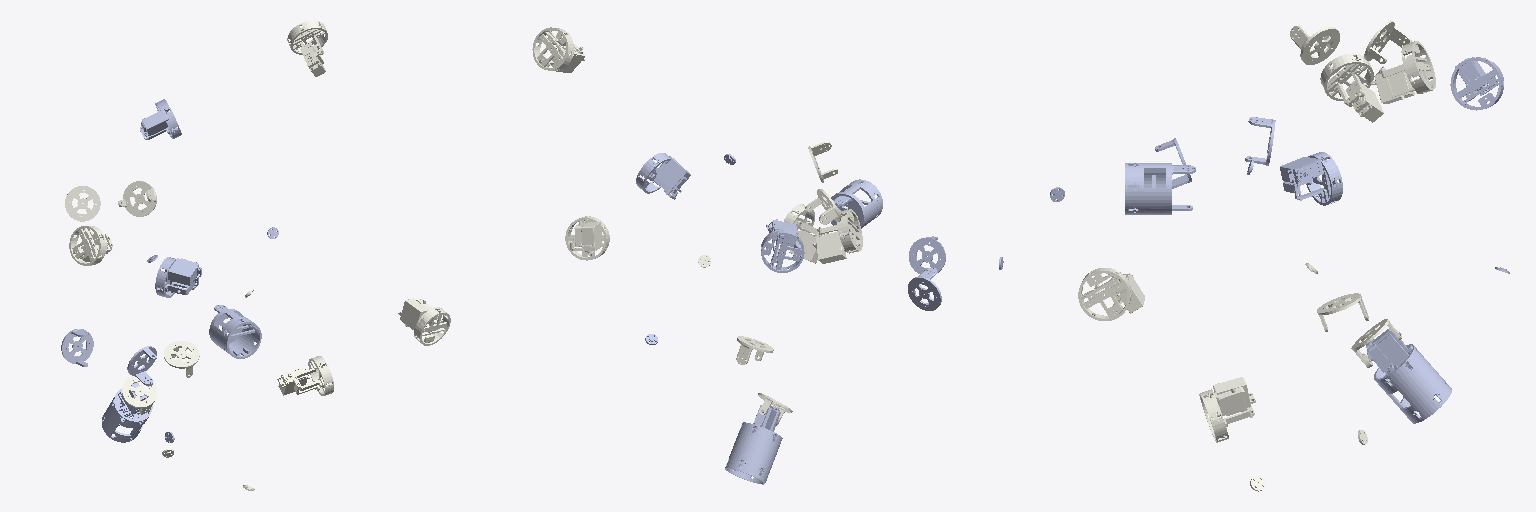
robot.urdf — Arboc.SLDASM:
<robot
  name="Arboc.SLDASM">
  <link
    name="head_link">
    <inertial>
      <origin
        xyz="0.21209 0.073412 0.088981"
        rpy="0 0 0" />
      <mass
        value="0.049805" />
      <inertia
        ixx="1.1571E-05"
        ixy="1.0971E-10"
        ixz="-3.5548E-10"
        iyy="1.0623E-05"
        iyz="2.7339E-06"
        izz="9.4814E-07" />
    </inertial>
    <visual>
      <origin
        xyz="0 0 0"
        rpy="0 0 0" />
      <geometry>
        <mesh
          filename="package://Arboc.SLDASM/meshes/head_link.STL" />
      </geometry>
      <material
        name="">
        <color
          rgba="0.79216 0.81961 0.93333 1" />
      </material>
    </visual>
    <collision>
      <origin
        xyz="0 0 0"
        rpy="0 0 0" />
      <geometry>
        <mesh
          filename="package://Arboc.SLDASM/meshes/head_link.STL" />
      </geometry>
    </collision>
  </link>
  <link
    name="link_0">
    <inertial>
      <origin
        xyz="0.00073093 0.031103 0.022445"
        rpy="0 0 0" />
      <mass
        value="0.066625" />
      <inertia
        ixx="1.5554E-05"
        ixy="-1.5964E-08"
        ixz="-1.5083E-06"
        iyy="1.6007E-05"
        iyz="-8.9711E-07"
        izz="6.7554E-07" />
    </inertial>
    <visual>
      <origin
        xyz="0 0 0"
        rpy="0 0 0" />
      <geometry>
        <mesh
          filename="package://Arboc.SLDASM/meshes/link_0.STL" />
      </geometry>
      <material
        name="">
        <color
          rgba="0.79216 0.81961 0.93333 1" />
      </material>
    </visual>
    <collision>
      <origin
        xyz="0 0 0"
        rpy="0 0 0" />
      <geometry>
        <mesh
          filename="package://Arboc.SLDASM/meshes/link_0.STL" />
      </geometry>
    </collision>
  </link>
  <joint
    name="joint_0"
    type="revolute">
    <origin
      xyz="0.21209 -0.046017 0.041737"
      rpy="1.5315 -1.1726E-14 3.1269" />
    <parent
      link="head_link" />
    <child
      link="link_0" />
    <axis
      xyz="0 0.99923 0.03926" />
    <limit
      effort="0"
      velocity="0" />
  </joint>
  <link
    name="link_1">
    <inertial>
      <origin
        xyz="-0.095773 -0.0015423 0.014027"
        rpy="0 0 0" />
      <mass
        value="0.066625" />
      <inertia
        ixx="1.5554E-05"
        ixy="-7.5165E-08"
        ixz="-1.5065E-06"
        iyy="1.5913E-05"
        iyz="-1.4958E-06"
        izz="7.6955E-07" />
    </inertial>
    <visual>
      <origin
        xyz="0 0 0"
        rpy="0 0 0" />
      <geometry>
        <mesh
          filename="package://Arboc.SLDASM/meshes/link_1.STL" />
      </geometry>
      <material
        name="">
        <color
          rgba="0.97255 0.96863 0.92941 1" />
      </material>
    </visual>
    <collision>
      <origin
        xyz="0 0 0"
        rpy="0 0 0" />
      <geometry>
        <mesh
          filename="package://Arboc.SLDASM/meshes/link_1.STL" />
      </geometry>
    </collision>
  </link>
  <joint
    name="joint_1"
    type="revolute">
    <origin
      xyz="0 -0.040771 -0.0016019"
      rpy="-6.0666E-15 0.80893 -1.5708" />
    <parent
      link="link_0" />
    <child
      link="link_1" />
    <axis
      xyz="-0.71815 0 -0.69589" />
    <limit
      effort="0"
      velocity="0" />
  </joint>
  <link
    name="link_2">
    <inertial>
      <origin
        xyz="0.00073315 0.020286 0.011081"
        rpy="0 0 0" />
      <mass
        value="0.066625" />
      <inertia
        ixx="1.5554E-05"
        ixy="-7.5165E-08"
        ixz="-1.5065E-06"
        iyy="1.5913E-05"
        iyz="-1.4958E-06"
        izz="7.6955E-07" />
    </inertial>
    <visual>
      <origin
        xyz="0 0 0"
        rpy="0 0 0" />
      <geometry>
        <mesh
          filename="package://Arboc.SLDASM/meshes/link_2.STL" />
      </geometry>
      <material
        name="">
        <color
          rgba="0.97255 0.96863 0.92941 1" />
      </material>
    </visual>
    <collision>
      <origin
        xyz="0 0 0"
        rpy="0 0 0" />
      <geometry>
        <mesh
          filename="package://Arboc.SLDASM/meshes/link_2.STL" />
      </geometry>
    </collision>
  </link>
  <joint
    name="joint_2"
    type="revolute">
    <origin
      xyz="-0.11833 0.0036174 0.064275"
      rpy="-5.944E-16 -0.36561 -1.5708" />
    <parent
      link="link_1" />
    <child
      link="link_2" />
    <axis
      xyz="0 0 0" />
    <limit
      effort="0"
      velocity="0" />
  </joint>
  <link
    name="link_3">
    <inertial>
      <origin
        xyz="0.00073316 0.020286 0.011081"
        rpy="0 0 0" />
      <mass
        value="0.066625" />
      <inertia
        ixx="1.5554E-05"
        ixy="-7.5165E-08"
        ixz="-1.5065E-06"
        iyy="1.5913E-05"
        iyz="-1.4958E-06"
        izz="7.6955E-07" />
    </inertial>
    <visual>
      <origin
        xyz="0 0 0"
        rpy="0 0 0" />
      <geometry>
        <mesh
          filename="package://Arboc.SLDASM/meshes/link_3.STL" />
      </geometry>
      <material
        name="">
        <color
          rgba="0.97255 0.96863 0.92941 1" />
      </material>
    </visual>
    <collision>
      <origin
        xyz="0 0 0"
        rpy="0 0 0" />
      <geometry>
        <mesh
          filename="package://Arboc.SLDASM/meshes/link_3.STL" />
      </geometry>
    </collision>
  </link>
  <joint
    name="joint_3"
    type="revolute">
    <origin
      xyz="-0.021826 0.024697 0.061584"
      rpy="8.1042E-16 -0.2875 -1.5708" />
    <parent
      link="link_2" />
    <child
      link="link_3" />
    <axis
      xyz="0 0 0" />
    <limit
      effort="0"
      velocity="0" />
  </joint>
  <link
    name="link_4">
    <inertial>
      <origin
        xyz="0.0089068 0.0097991 0.0026316"
        rpy="0 0 0" />
      <mass
        value="0.066625" />
      <inertia
        ixx="1.5554E-05"
        ixy="-1.5965E-08"
        ixz="-1.5082E-06"
        iyy="1.6007E-05"
        iyz="-8.9714E-07"
        izz="6.7553E-07" />
    </inertial>
    <visual>
      <origin
        xyz="0 0 0"
        rpy="0 0 0" />
      <geometry>
        <mesh
          filename="package://Arboc.SLDASM/meshes/link_4.STL" />
      </geometry>
      <material
        name="">
        <color
          rgba="0.79216 0.81961 0.93333 1" />
      </material>
    </visual>
    <collision>
      <origin
        xyz="0 0 0"
        rpy="0 0 0" />
      <geometry>
        <mesh
          filename="package://Arboc.SLDASM/meshes/link_4.STL" />
      </geometry>
    </collision>
  </link>
  <joint
    name="joint_4"
    type="revolute">
    <origin
      xyz="-0.011435 0.038644 0.063854"
      rpy="-0.03927 -0.54485 -1.5708" />
    <parent
      link="link_3" />
    <child
      link="link_4" />
    <axis
      xyz="0 0 0" />
    <limit
      effort="0"
      velocity="0" />
  </joint>
  <link
    name="link_5">
    <inertial>
      <origin
        xyz="0.00073316 0.020286 0.011081"
        rpy="0 0 0" />
      <mass
        value="0.066625" />
      <inertia
        ixx="1.5554E-05"
        ixy="-7.5165E-08"
        ixz="-1.5065E-06"
        iyy="1.5913E-05"
        iyz="-1.4958E-06"
        izz="7.6955E-07" />
    </inertial>
    <visual>
      <origin
        xyz="0 0 0"
        rpy="0 0 0" />
      <geometry>
        <mesh
          filename="package://Arboc.SLDASM/meshes/link_5.STL" />
      </geometry>
      <material
        name="">
        <color
          rgba="0.97255 0.96863 0.92941 1" />
      </material>
    </visual>
    <collision>
      <origin
        xyz="0 0 0"
        rpy="0 0 0" />
      <geometry>
        <mesh
          filename="package://Arboc.SLDASM/meshes/link_5.STL" />
      </geometry>
    </collision>
  </link>
  <joint
    name="joint_5"
    type="revolute">
    <origin
      xyz="-0.013653 0.010853 0.053517"
      rpy="-3.0788E-15 -0.11052 -1.5708" />
    <parent
      link="link_4" />
    <child
      link="link_5" />
    <axis
      xyz="0 0 0" />
    <limit
      effort="0"
      velocity="0" />
  </joint>
  <link
    name="tail_link">
    <inertial>
      <origin
        xyz="0.0047939 0.015046 0.082963"
        rpy="0 0 0" />
      <mass
        value="0.10039" />
      <inertia
        ixx="6.9014E-05"
        ixy="-1.7902E-09"
        ixz="2.8277E-08"
        iyy="6.8662E-05"
        iyz="3.1993E-06"
        izz="3.5261E-07" />
    </inertial>
    <visual>
      <origin
        xyz="0 0 0"
        rpy="0 0 0" />
      <geometry>
        <mesh
          filename="package://Arboc.SLDASM/meshes/tail_link.STL" />
      </geometry>
      <material
        name="">
        <color
          rgba="0.79216 0.81961 0.93333 1" />
      </material>
    </visual>
    <collision>
      <origin
        xyz="0 0 0"
        rpy="0 0 0" />
      <geometry>
        <mesh
          filename="package://Arboc.SLDASM/meshes/tail_link.STL" />
      </geometry>
    </collision>
  </link>
  <joint
    name="tail_joint"
    type="revolute">
    <origin
      xyz="-0.020707 0.020446 0.0080623"
      rpy="-0.03927 -0.14131 -1.5708" />
    <parent
      link="link_5" />
    <child
      link="tail_link" />
    <axis
      xyz="0.053224 -0.10757 -0.99277" />
    <limit
      effort="0"
      velocity="0" />
  </joint>
</robot>

--- What the picture shows (computed from the rendered views, not written in the file) ---
The picture shows the robot from 3 angles, left to right: view 1: azimuth 30°, elevation 25°; view 2: azimuth 150°, elevation 25°; view 3: azimuth 270°, elevation 25°; orthographic projection.
Model Arboc.SLDASM with 8 links and 7 joints (7 revolute), rooted at head_link, posed every joint at zero.
Links seen in each view (by area): view 1: link_2, link_3, link_1, link_0, link_5, head_link, link_4, tail_link; view 2: tail_link, link_4, link_0, link_3, link_5, link_2, link_1, head_link; view 3: tail_link, link_2, link_3, link_5, link_1, head_link, link_0, link_4.
Link boxes in pixels (x1,y1,x2,y2): link_2: (118, 181, 450, 457); link_3: (65, 20, 327, 490); link_1: (164, 289, 333, 395); link_0: (127, 227, 278, 385); link_5: (69, 226, 157, 414); head_link: (165, 305, 261, 442); link_4: (61, 99, 181, 366); tail_link: (102, 382, 152, 442); tail_link: (725, 405, 782, 484); link_4: (636, 153, 941, 344); link_0: (724, 154, 945, 274); link_3: (532, 27, 840, 224); link_5: (758, 209, 862, 425); link_2: (565, 141, 837, 260); link_1: (698, 204, 828, 364); head_link: (831, 179, 1003, 269); tail_link: (1366, 328, 1451, 423); link_2: (1199, 26, 1367, 444); link_3: (1250, 20, 1435, 491); link_5: (1320, 53, 1401, 367); link_1: (1078, 263, 1368, 331); head_link: (1050, 163, 1195, 214); link_0: (1155, 138, 1342, 205); link_4: (1245, 57, 1509, 273).
Bounding box of the posed robot: 0.7089 × 0.5889 × 0.7371 m (x, y, z).
8 mesh visuals loaded from 8 distinct referenced files (8 binary STL).